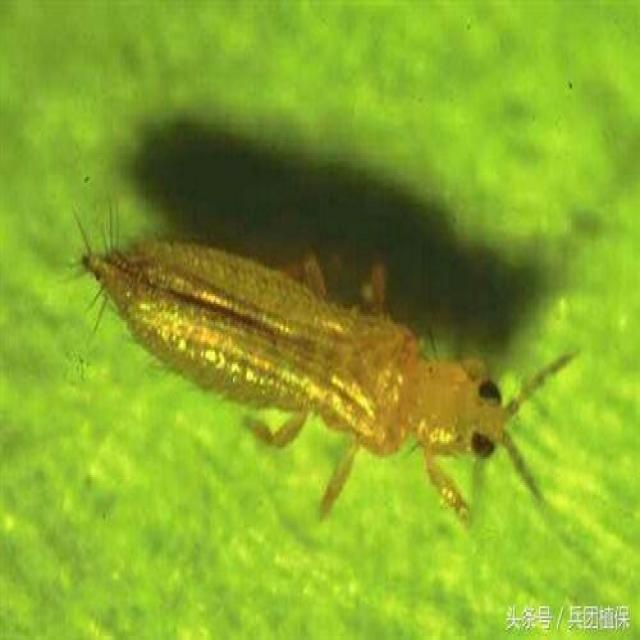Thrip-Larva-: (60, 181, 600, 544)
